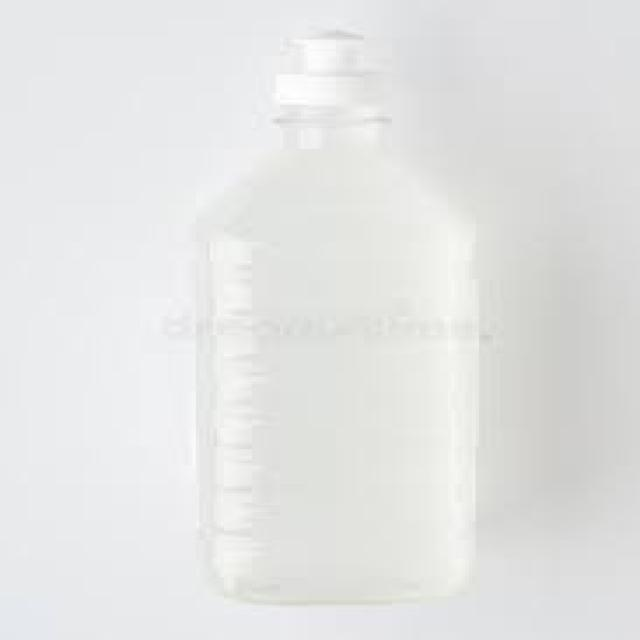plastic: (185, 28, 472, 605), (266, 30, 374, 105)
